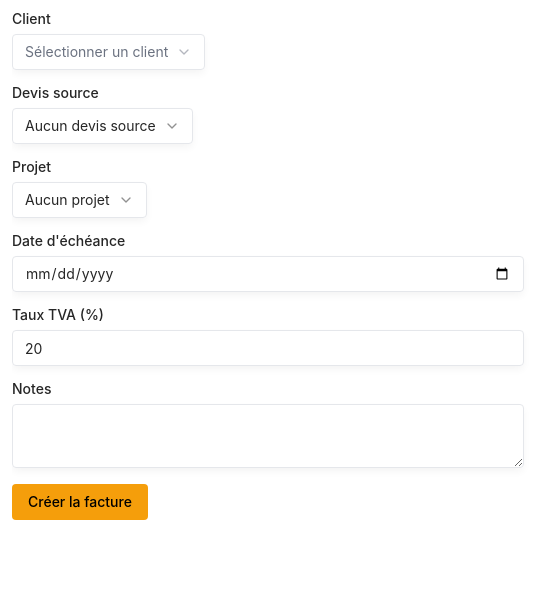
Test case: InvoiceForm › contact_reset_on_client_change
Click the dropdown with test id "invoice-clientId-select".
click(109, 52)  # box top-left (12, 34), bottom-right (205, 70)
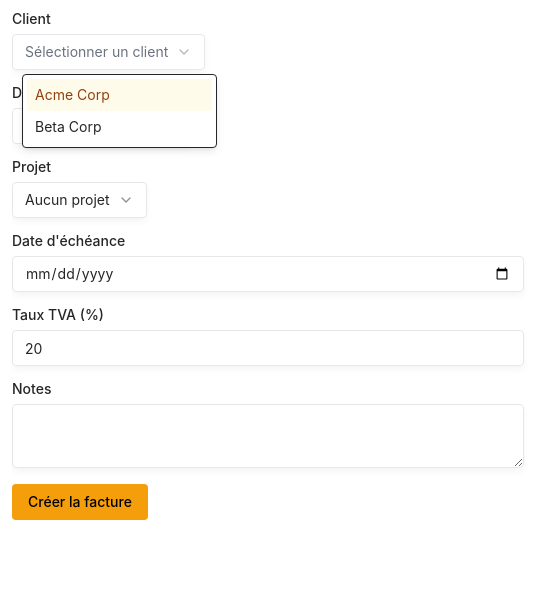
Result: the option "Acme Corp" is shown
Click the option "Acme Corp".
click(120, 95)  # box top-left (27, 79), bottom-right (212, 111)
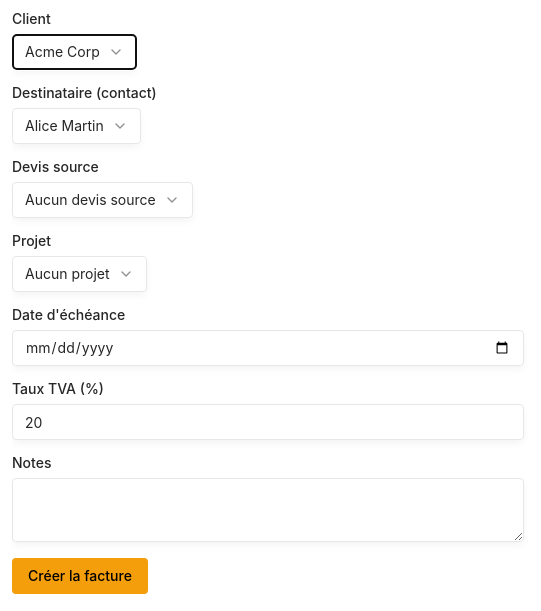
Result: the dropdown with test id "invoice-contactId-select" is shown
Click the dropdown with test id "invoice-contactId-select".
click(76, 126)  # box top-left (12, 108), bottom-right (141, 144)
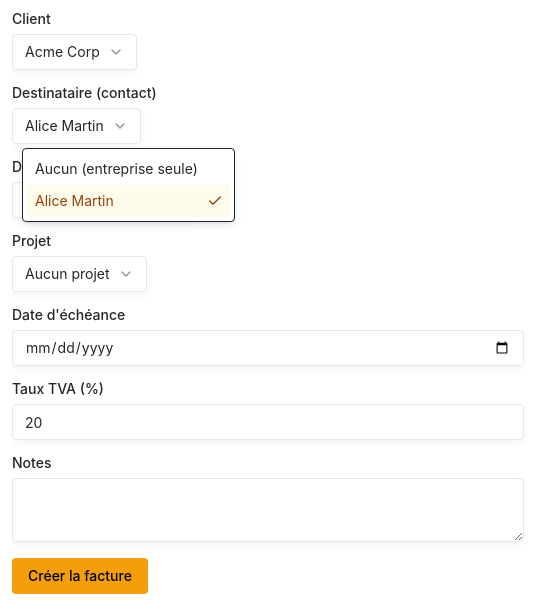
Result: the option "Alice Martin" is shown
Click the option "Alice Martin".
click(128, 201)  # box top-left (27, 185), bottom-right (230, 217)
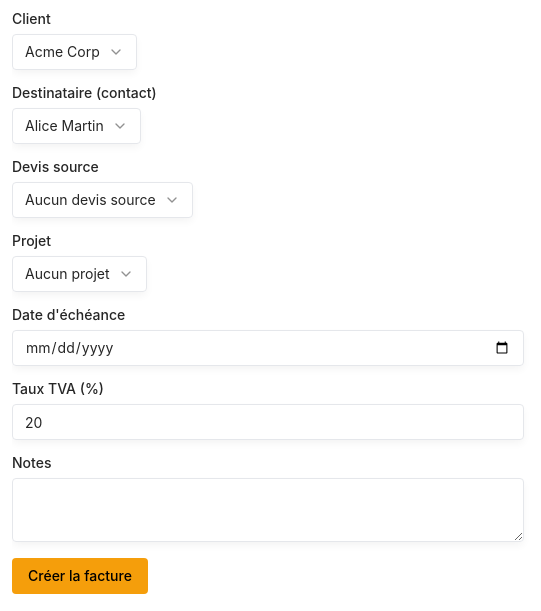
Click the dropdown with test id "invoice-clientId-select".
click(74, 52)  # box top-left (12, 34), bottom-right (137, 70)
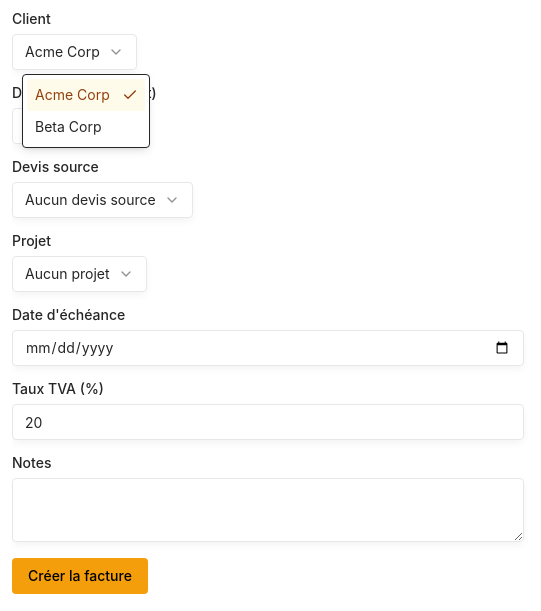
Result: the option "Beta Corp" is shown
Click the option "Beta Corp".
click(68, 126)  # box top-left (35, 118), bottom-right (102, 135)
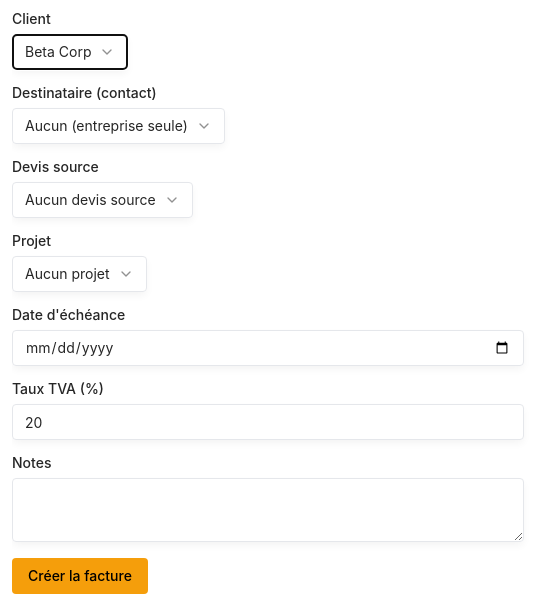
Result: the dropdown with test id "invoice-contactId-select" reads "Aucun (entreprise seule)" at top-left (12, 108), bottom-right (225, 144)
